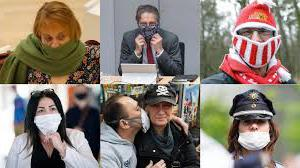mask_weared_incorrect: (237, 22, 275, 61), (41, 32, 71, 64), (240, 120, 268, 146)
with_mask: (130, 101, 149, 134), (36, 104, 57, 129), (140, 18, 158, 38)
without_mask: (151, 104, 171, 127)
